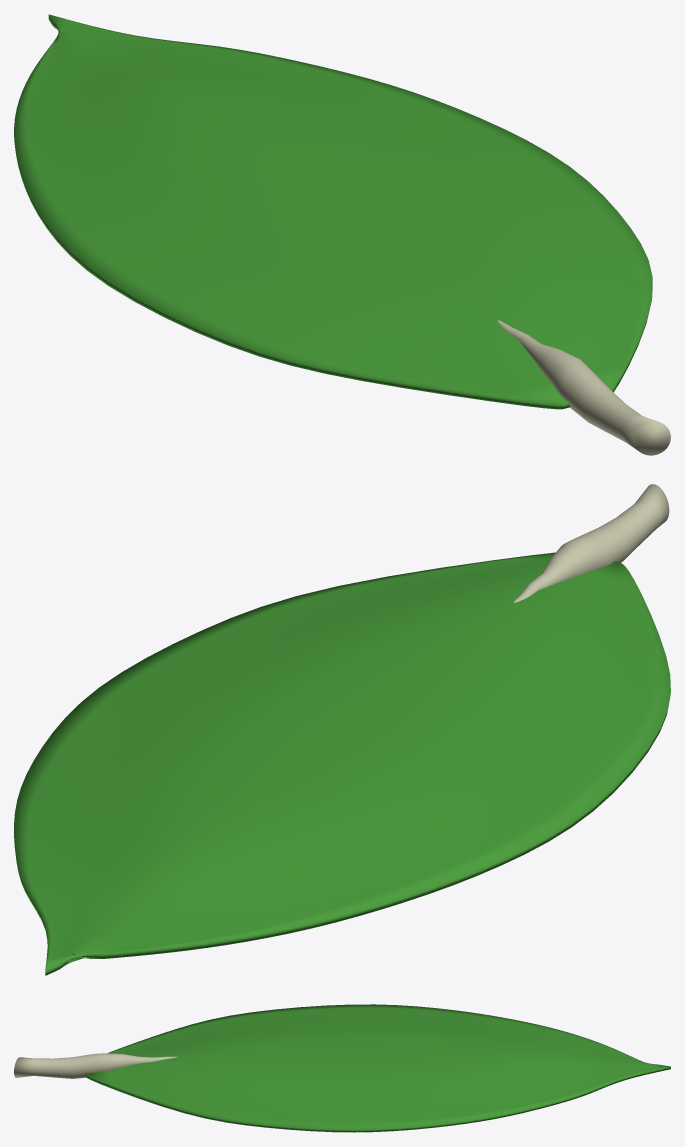
File: mongodb.glb
3 renders of one model, top to bottom at view 1: azimuth 30°, elevation 25°; view 2: azimuth 150°, elevation 25°; view 3: azimuth 270°, elevation 25°, orthographic. The views are drawn at different scales.
Visible parts, largest first — view 1: Plane, Cylinder; view 2: Plane, Cylinder; view 3: Plane, Cylinder.
Boxes of the visible parts, x1,y1,x2,y2 form: Plane: [14, 14, 652, 409]; Cylinder: [497, 320, 670, 455]; Plane: [14, 552, 670, 975]; Cylinder: [513, 484, 669, 602]; Plane: [84, 1004, 670, 1132]; Cylinder: [14, 1053, 177, 1078].
Size of the model in its own units: 0.7514 by 0.0668 by 1.66.
